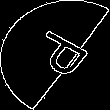P_SE: (17, 26, 93, 84)
